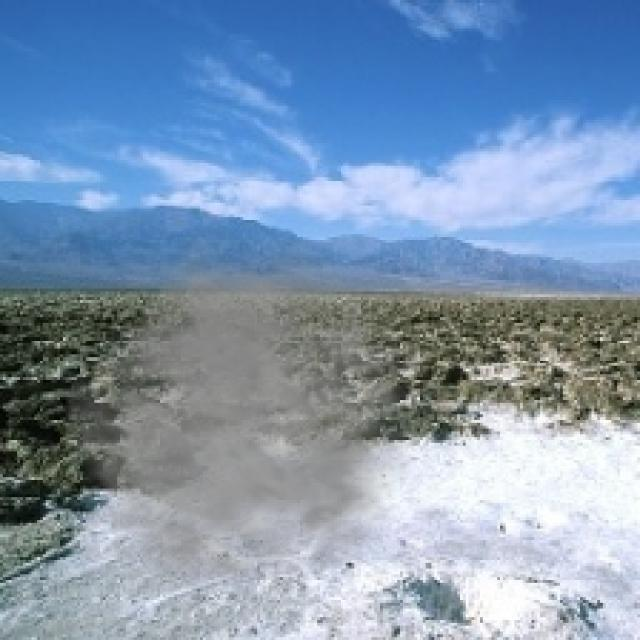Smoke: (62, 232, 452, 597)
